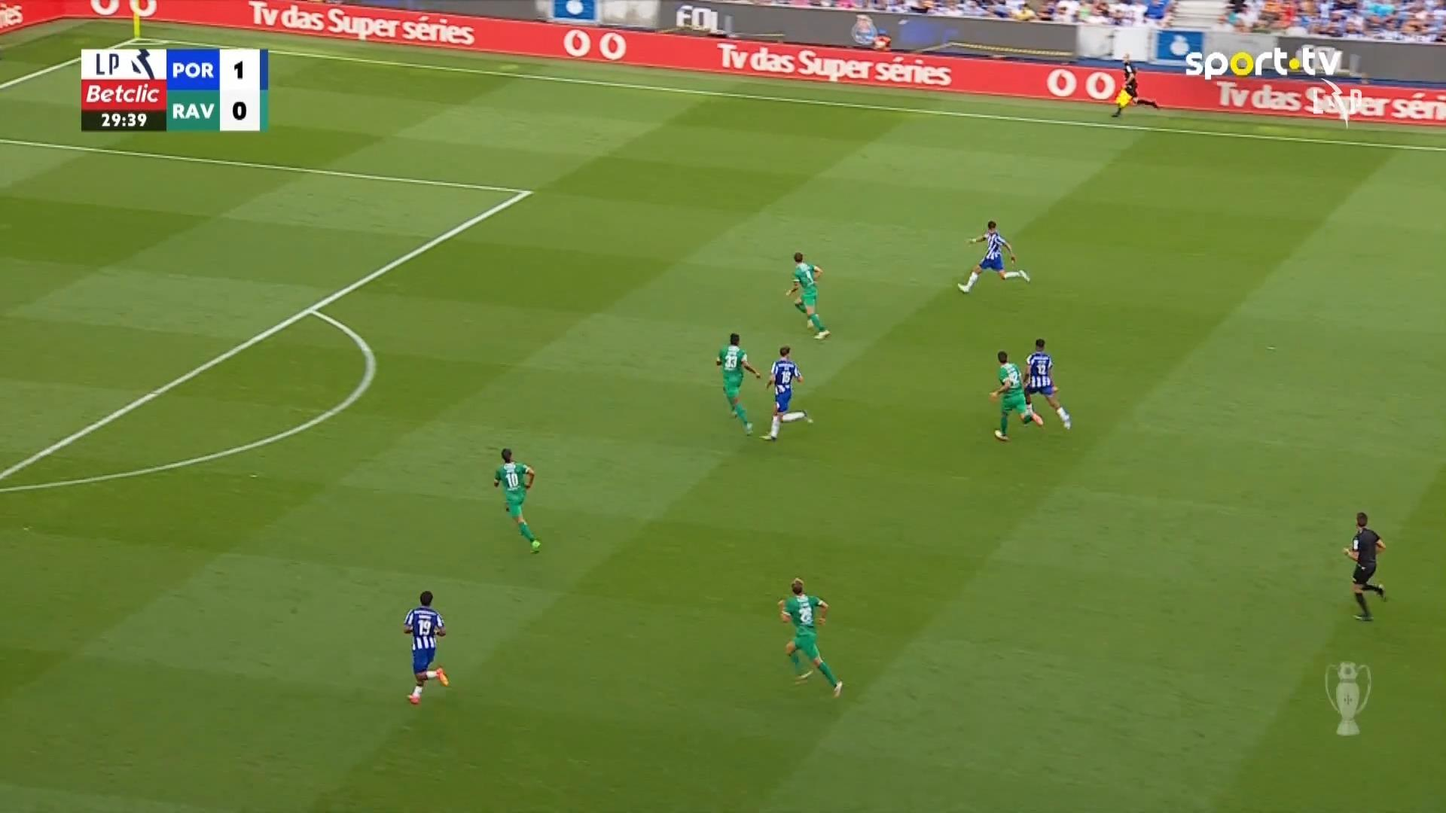ball: (956, 281, 972, 296)
player: (776, 577, 844, 698), (402, 589, 450, 705), (956, 219, 1030, 294), (492, 446, 541, 554), (761, 345, 813, 440), (714, 331, 761, 436), (988, 349, 1041, 440), (1021, 337, 1072, 429), (784, 250, 830, 340)
referee: (1341, 511, 1387, 620), (1110, 53, 1160, 117)
